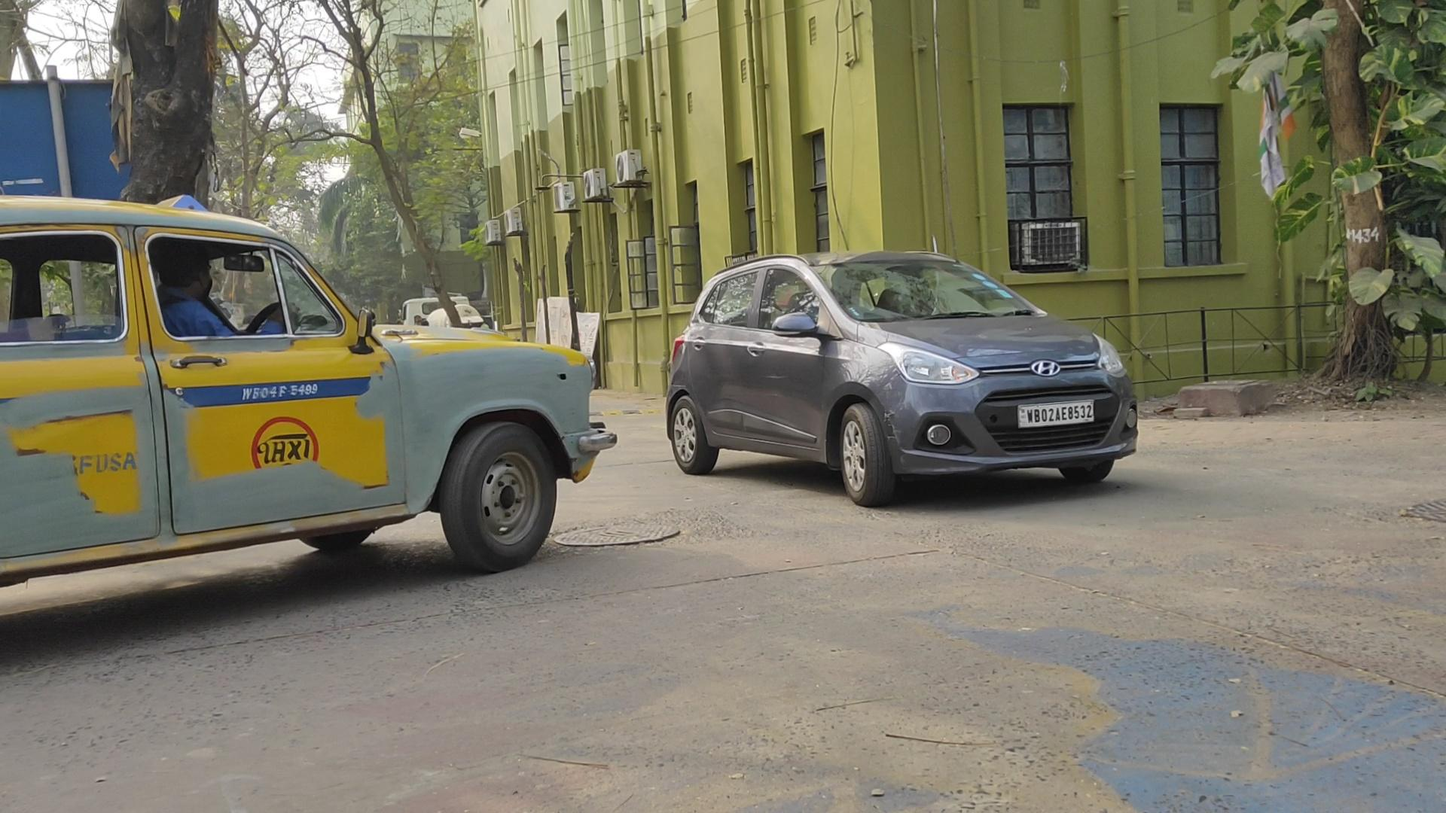car: (1, 191, 616, 600), (665, 249, 1141, 507)
